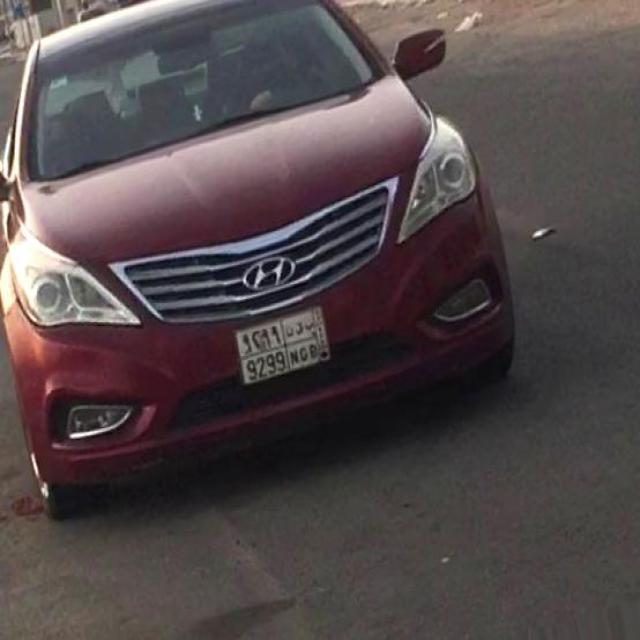Car-plate: (225, 297, 339, 402)
